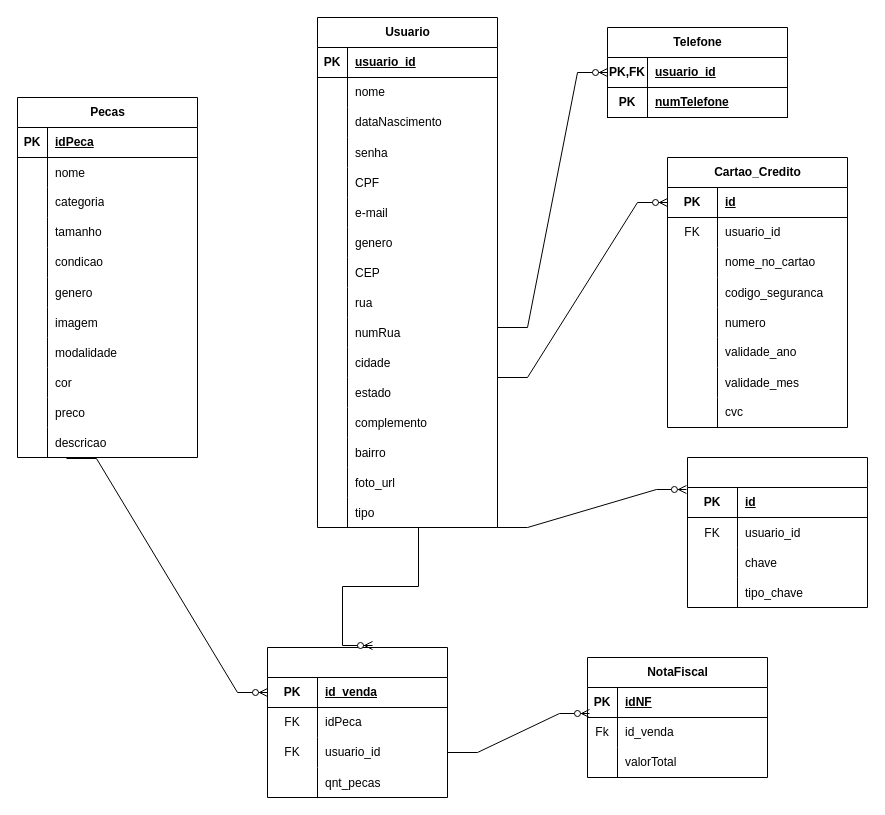
The diagram is 885 pixels wide and 815 high, and some of its shapes have lost their labels. The box of each missing label's shape, as (x1, y1, x2, y2) in pixels:
Pix: (686, 456, 868, 608)
Vendas: (266, 646, 448, 798)
